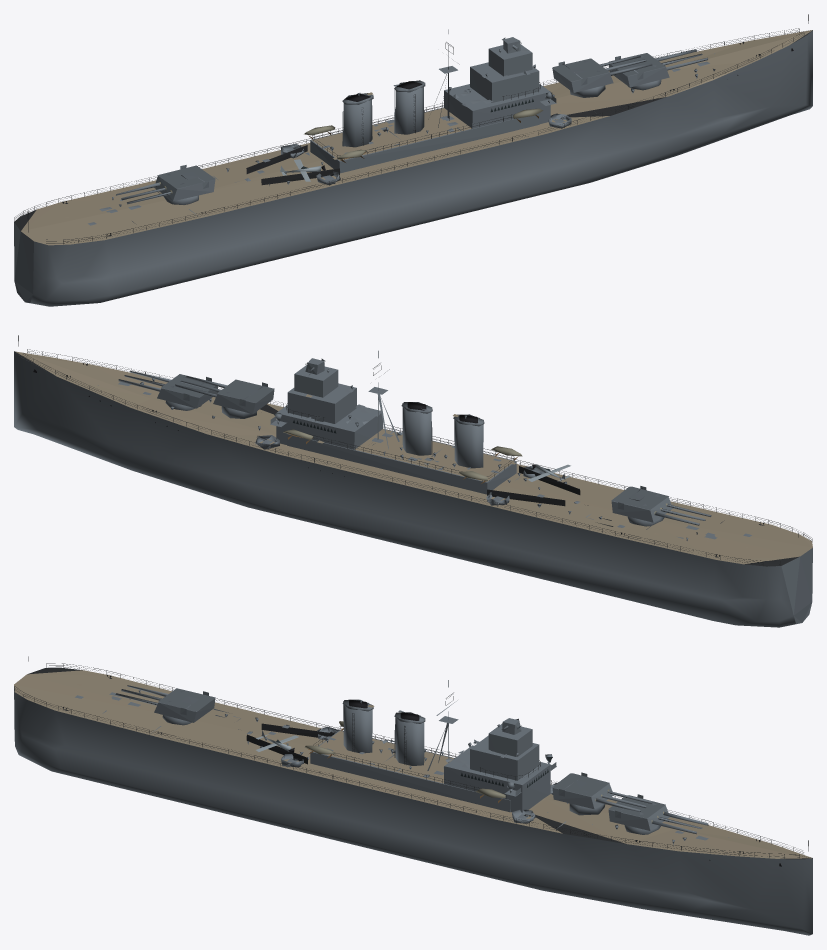
Rendered from northampton_lod.glb.
The picture shows the model from 3 angles, top to bottom: view 1: azimuth 30°, elevation 25°; view 2: azimuth 150°, elevation 25°; view 3: azimuth 330°, elevation 25°; orthographic projection.
Parts seen in each view (by area): view 1: northampton_lod; view 2: northampton_lod; view 3: northampton_lod.
Part boxes in pixels (box(x1,y1,x2,y2)): northampton_lod: box(14, 14, 812, 306); northampton_lod: box(14, 335, 812, 627); northampton_lod: box(14, 656, 812, 935).
Bounding box in the file's own units: 183 × 37.47 × 20.56.
